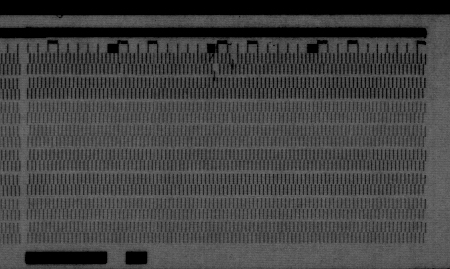Oblique printing: (229, 51, 239, 67), (210, 64, 221, 78), (115, 62, 126, 76)
